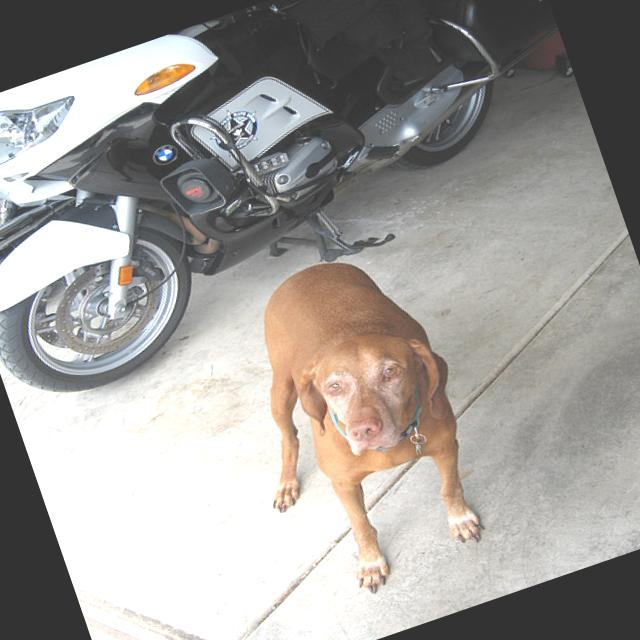Vehicle: (0, 0, 597, 412), (0, 135, 101, 328)
